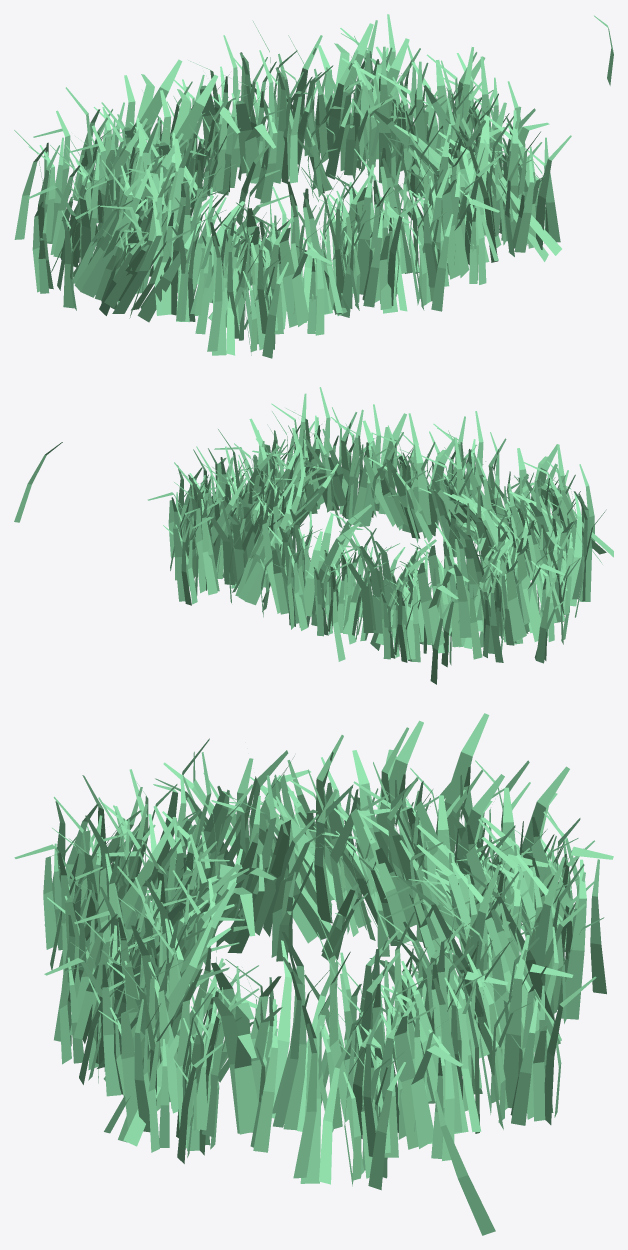
Rendered from 041520grassModel.gltf.
3 views of the same model, one above another, from view 1: azimuth 30°, elevation 25°; view 2: azimuth 150°, elevation 25°; view 3: azimuth 270°, elevation 25° (orthographic). The views are drawn at different scales.
Parts seen in each view (by area): view 1: Plane.419, Plane.599, Plane.580, Plane.464, Plane.385, Plane.382, Plane.629, Plane.567, Plane.610, Plane.340, Plane.579, Plane.566 (+66 smaller); view 2: Plane.441, Plane.490, Plane.449, Plane.442, Plane.536, Plane.124, Plane.517, Plane.111, Plane.704, Plane.378, Plane.496, Plane.148 (+35 smaller); view 3: Plane.706, Plane.675, Plane.542, Plane.725, Plane.726, Plane.089, Plane.674, Plane.738, Plane.683, Plane.739, Plane.441, Plane.619 (+57 smaller).
Part boxes in pixels (box(x1,y1,x2,y2)): Plane.419: box(80, 163, 152, 297); Plane.599: box(357, 164, 374, 294); Plane.580: box(279, 227, 297, 327); Plane.464: box(379, 46, 392, 182); Plane.385: box(112, 198, 161, 313); Plane.382: box(137, 220, 201, 322); Plane.629: box(442, 179, 459, 279); Plane.567: box(207, 235, 222, 351); Plane.610: box(501, 110, 518, 240); Plane.340: box(169, 74, 217, 171); Plane.579: box(292, 249, 332, 326); Plane.566: box(210, 222, 226, 355); Plane.441: box(506, 561, 526, 641); Plane.490: box(245, 484, 294, 605); Plane.449: box(453, 564, 471, 637); Plane.442: box(516, 537, 541, 641); Plane.536: box(303, 531, 322, 616); Plane.124: box(345, 409, 363, 518); Plane.517: box(417, 562, 432, 643); Plane.111: box(359, 404, 380, 526); Plane.704: box(202, 500, 217, 595); Plane.378: box(570, 493, 581, 606); Plane.496: box(192, 517, 234, 585); Plane.148: box(414, 441, 431, 526); Plane.706: box(503, 935, 529, 1108); Plane.675: box(234, 1033, 258, 1134); Plane.542: box(561, 859, 586, 1019); Plane.725: box(394, 1015, 431, 1149); Plane.726: box(411, 1045, 463, 1148); Plane.089: box(434, 1091, 495, 1235); Plane.674: box(282, 957, 306, 1130); Plane.738: box(293, 1023, 317, 1178); Plane.683: box(253, 1020, 277, 1152); Plane.739: box(300, 1005, 321, 1183); Plane.441: box(444, 713, 489, 853); Plane.619: box(102, 964, 121, 1096).
Size of the model in its own units: 123 by 31.95 by 77.46.
